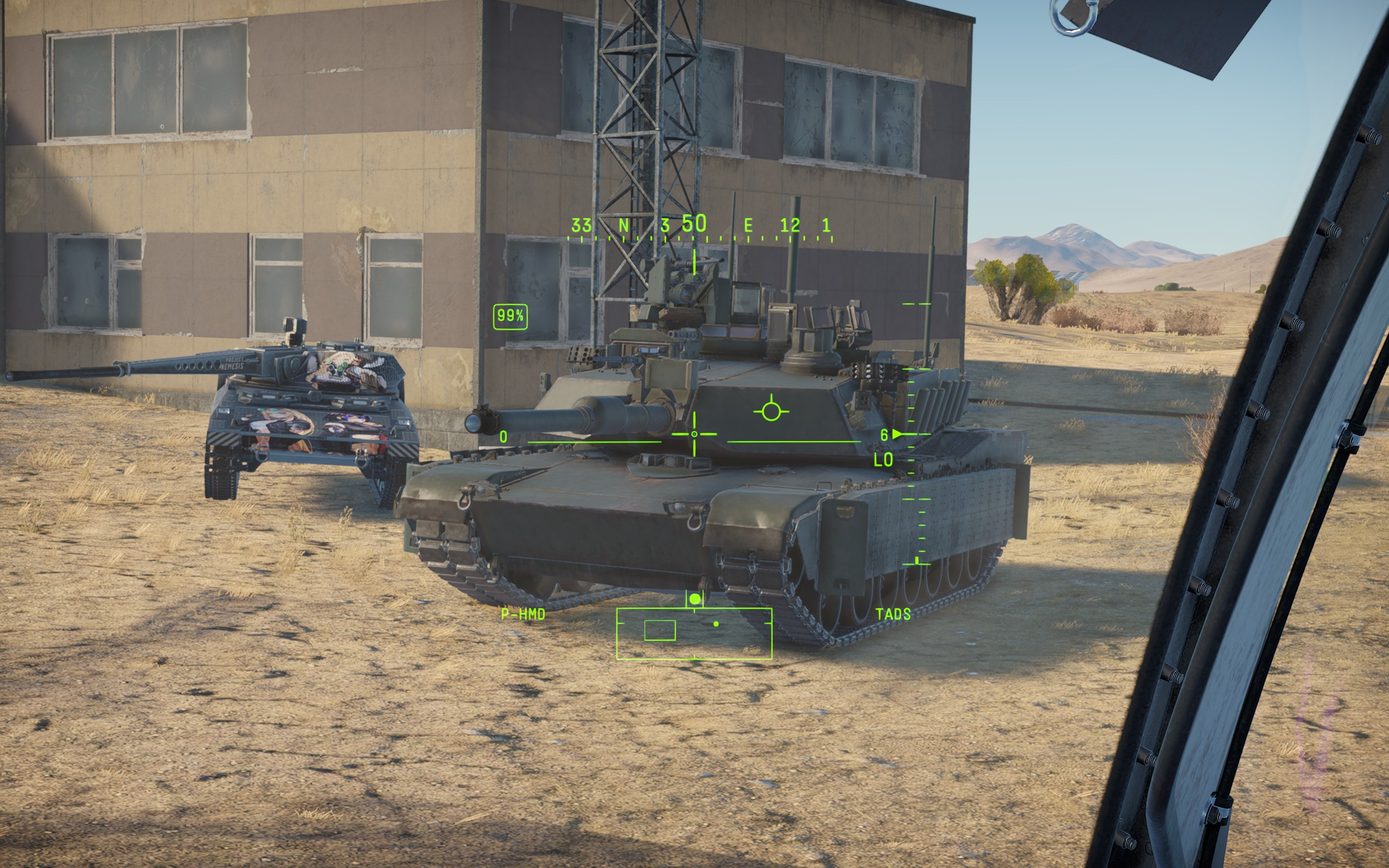abrams: (396, 253, 1033, 649)
